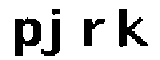j: (40, 5, 68, 60)
k: (116, 5, 151, 51)
p: (13, 16, 41, 60)
r: (82, 15, 107, 50)
